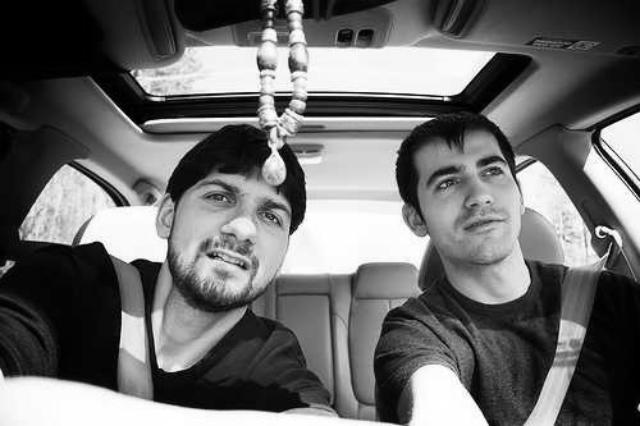SafeDriving: (250, 200, 290, 232), (428, 170, 469, 195), (198, 186, 238, 210), (478, 158, 509, 182)
Seatbelt: (1, 236, 158, 404), (520, 227, 622, 426)
